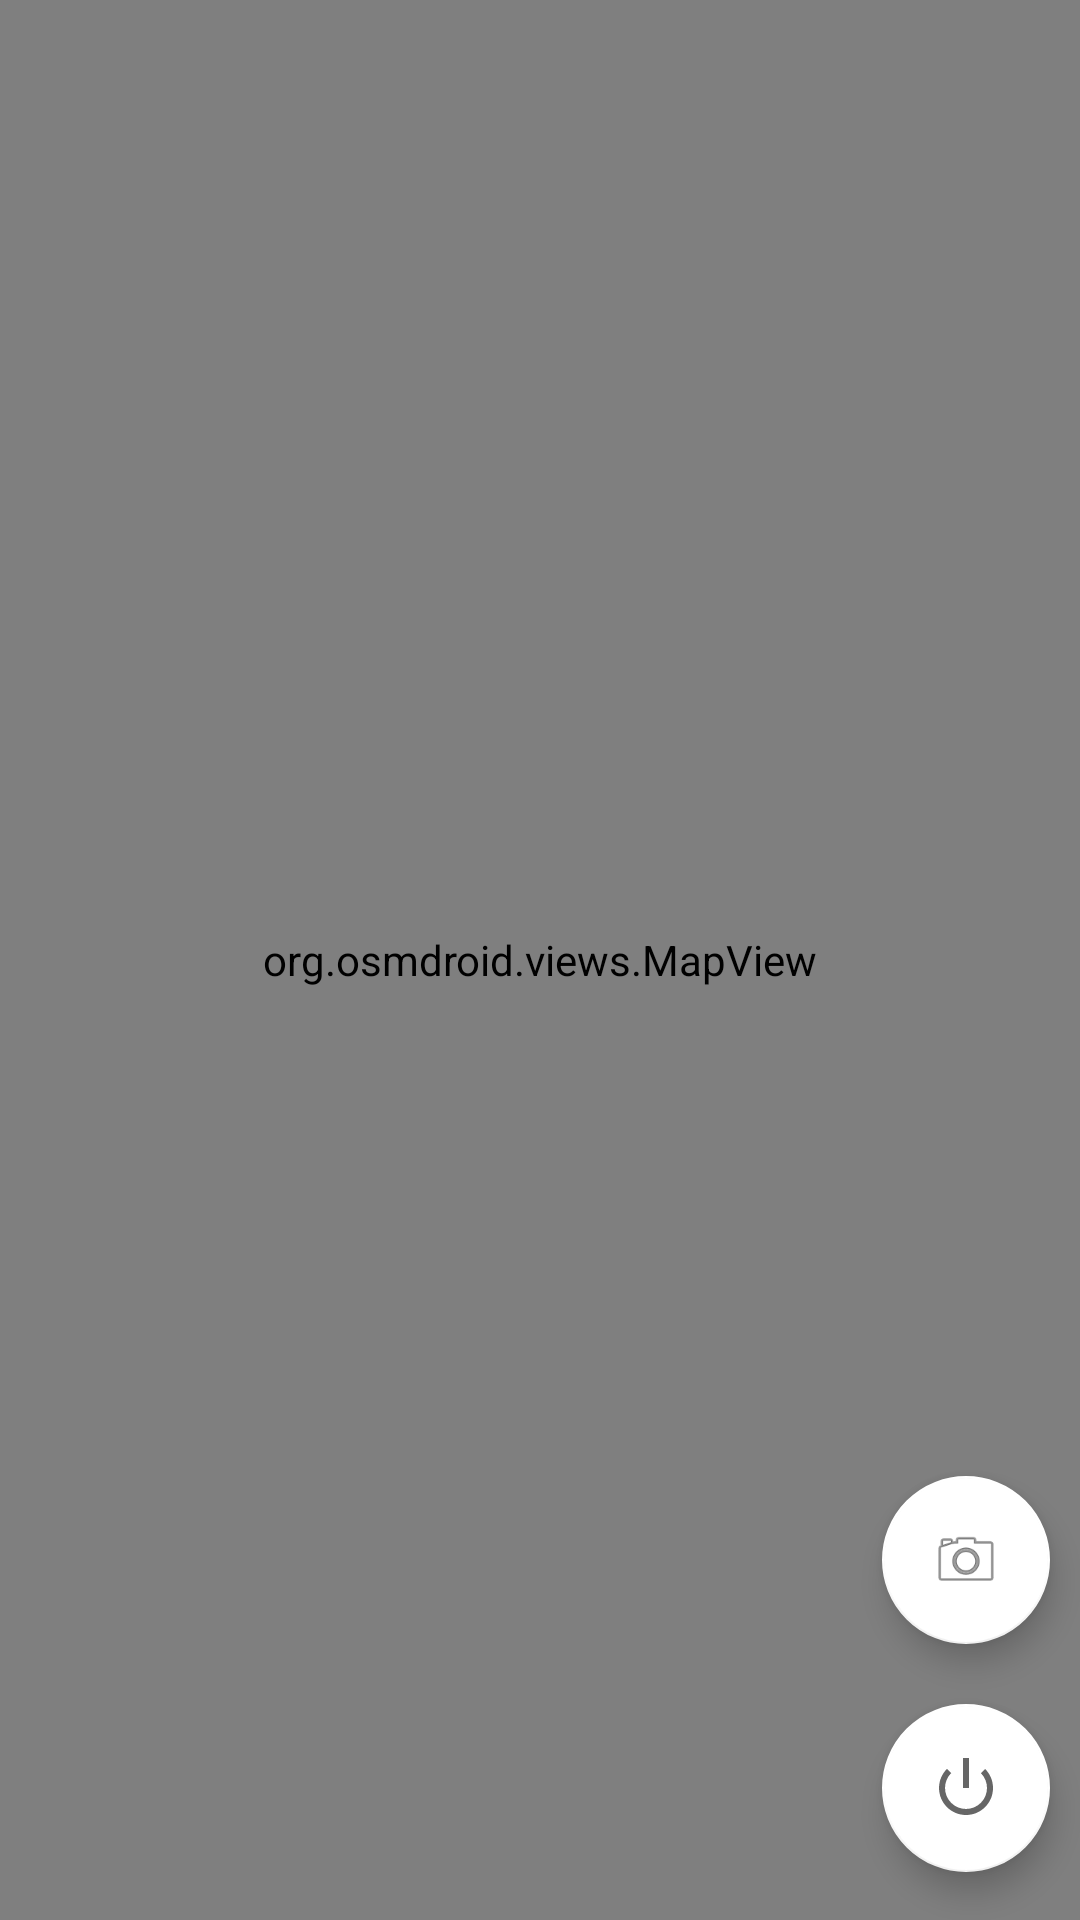

Icon click points for this 1080 × 1920 phone screenshot, format point (x, y):
camera: point (966, 1560)
lock power off: point (966, 1788)
